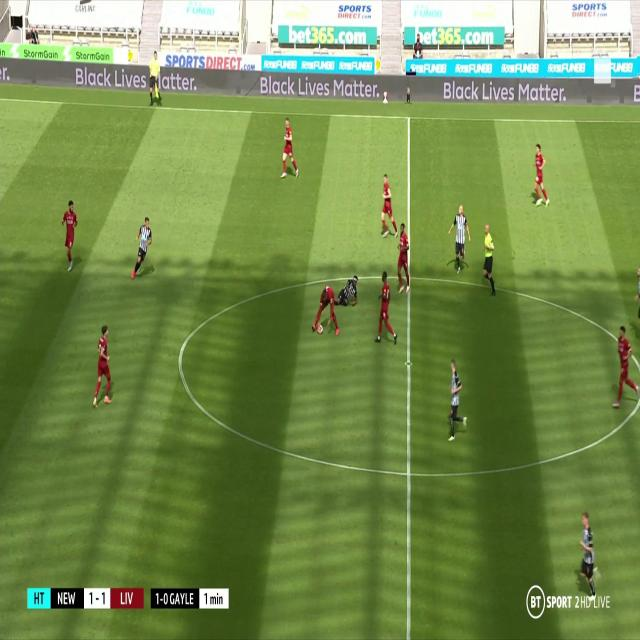player: (571, 511, 603, 614), (609, 322, 638, 416), (443, 357, 468, 447), (369, 272, 397, 351), (445, 204, 473, 277), (127, 216, 156, 282), (94, 323, 115, 411), (58, 198, 80, 277), (392, 220, 413, 302), (307, 286, 340, 337), (527, 143, 548, 216), (480, 221, 498, 305), (378, 171, 398, 243), (278, 116, 299, 180), (146, 48, 164, 114), (334, 272, 361, 314)
